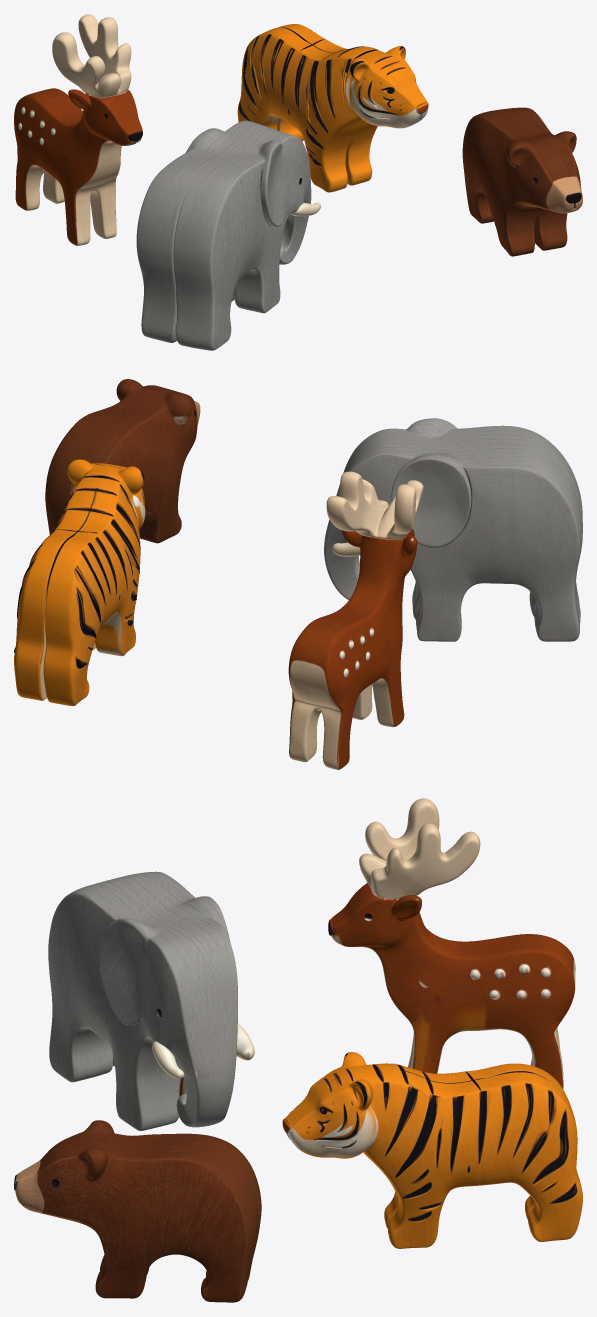
File: wooden_animals_set-optimized.glb
3 views of the same model, one above another, from view 1: azimuth 30°, elevation 25°; view 2: azimuth 150°, elevation 25°; view 3: azimuth 270°, elevation 25° (orthographic). The views are drawn at different scales.
Size of the model in its own units: 1.9 by 0.9102 by 1.73.
Materials: 1 (1 with a texture image).
